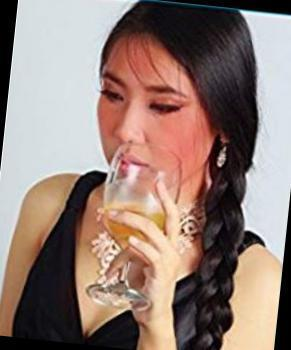Drunk: (102, 42, 202, 190)
